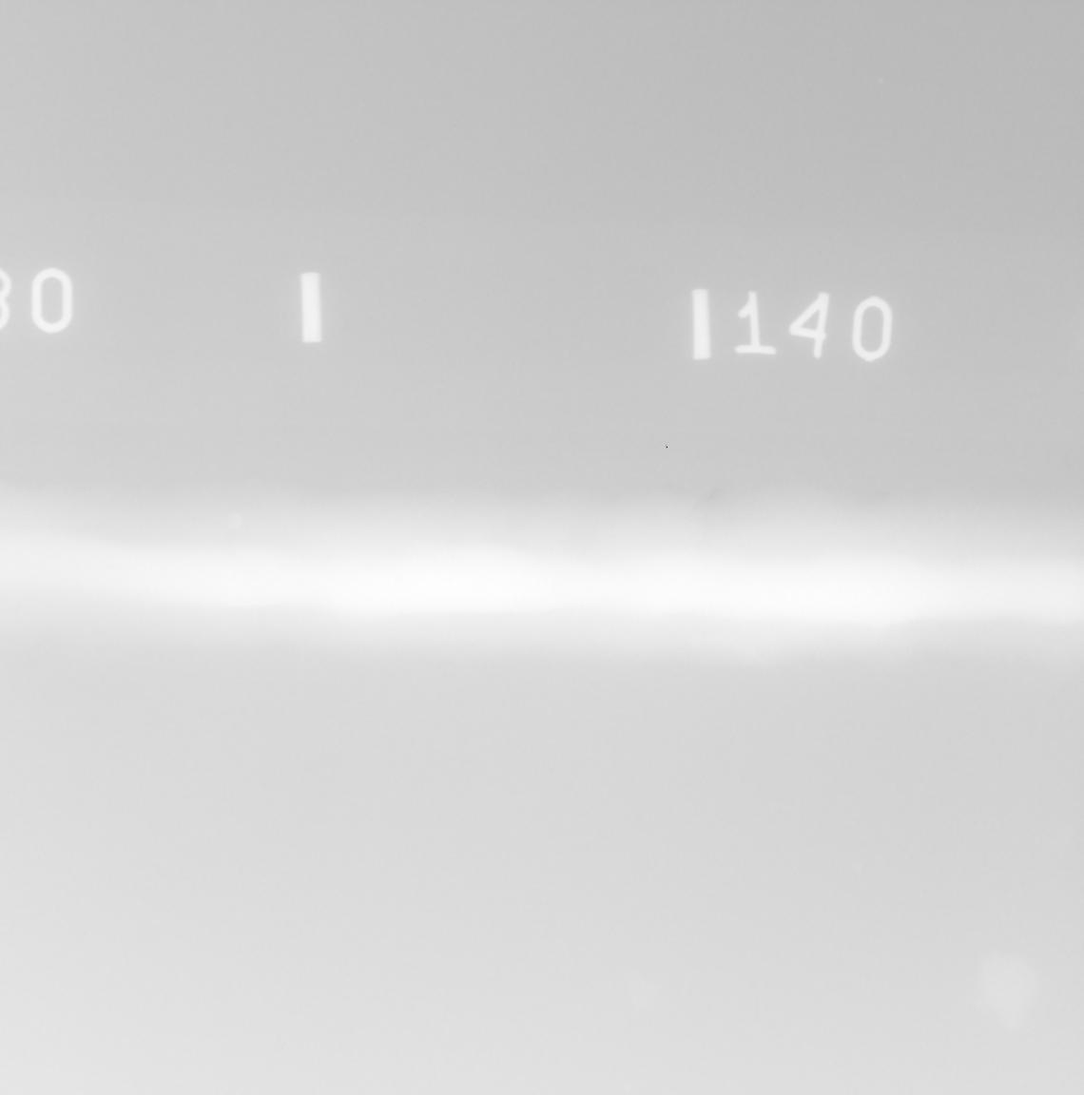Undercut: (706, 486, 721, 502)
